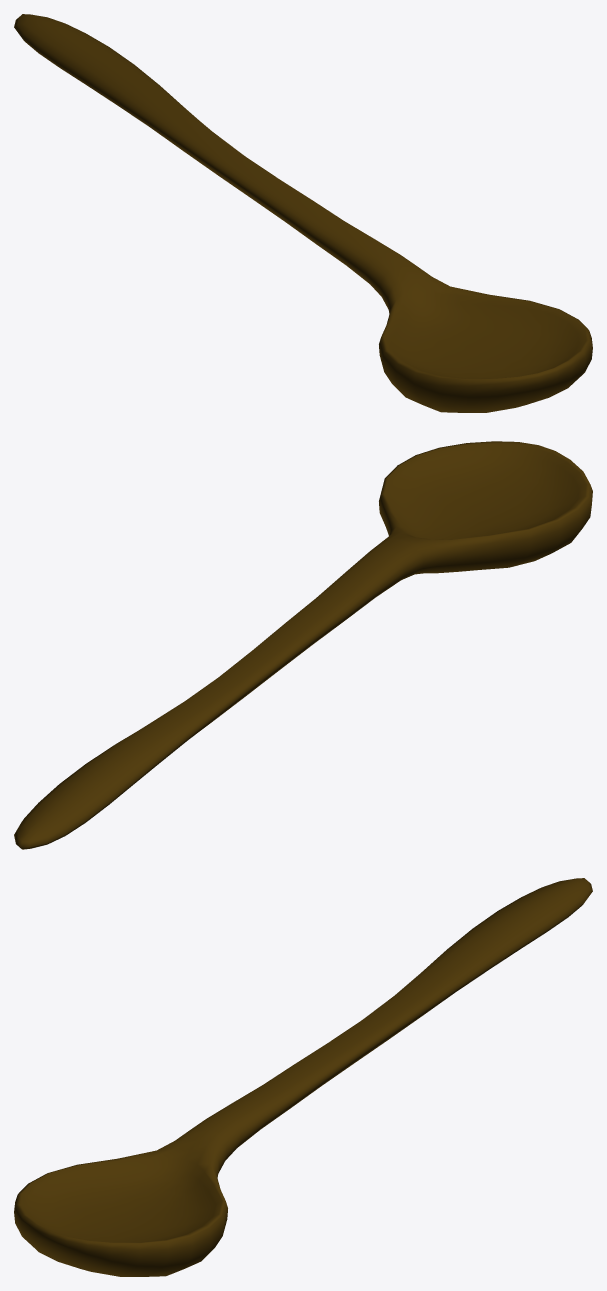
The model's file is SM_Prop_SpoonSoup.fbx.
3 renders of one model, top to bottom at view 1: azimuth 30°, elevation 25°; view 2: azimuth 150°, elevation 25°; view 3: azimuth 330°, elevation 25°, orthographic.
Parts seen in each view (by area): view 1: SM_Prop_SpoonSoup; view 2: SM_Prop_SpoonSoup; view 3: SM_Prop_SpoonSoup.
Boxes of the visible parts, box(x1,y1,x2,y2) form: SM_Prop_SpoonSoup: box(14, 14, 592, 412); SM_Prop_SpoonSoup: box(14, 441, 592, 849); SM_Prop_SpoonSoup: box(14, 878, 592, 1276).
Size of the model in its own units: 4.31 by 1.52 by 20.96.
